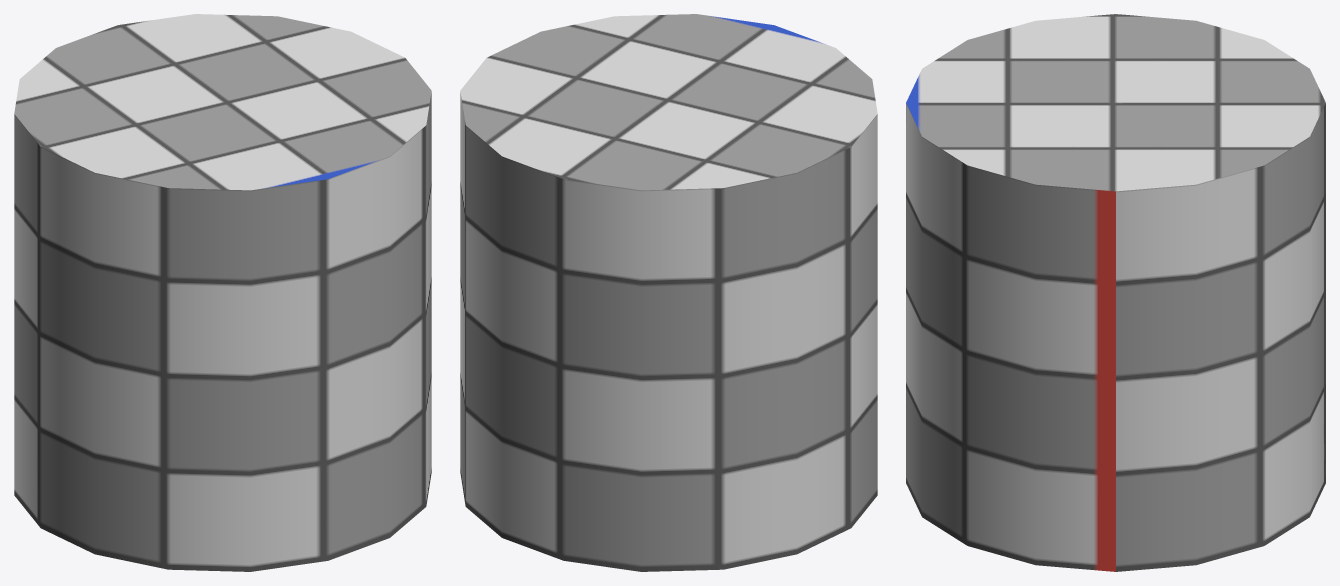
The picture shows the model from 3 angles, left to right: view 1: azimuth 30°, elevation 25°; view 2: azimuth 150°, elevation 25°; view 3: azimuth 270°, elevation 25°; orthographic projection.
Parts seen in each view (by area): view 1: cylinder; view 2: cylinder; view 3: cylinder.
Part boxes in pixels (x1,y1,x2,y2): cylinder: (14, 14, 431, 571); cylinder: (460, 14, 877, 571); cylinder: (906, 14, 1325, 571).
Bounding box in the file's own units: 2 × 2 × 2.
1 material, 1 textured.
